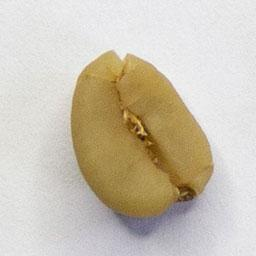defect: (67, 47, 216, 221)
